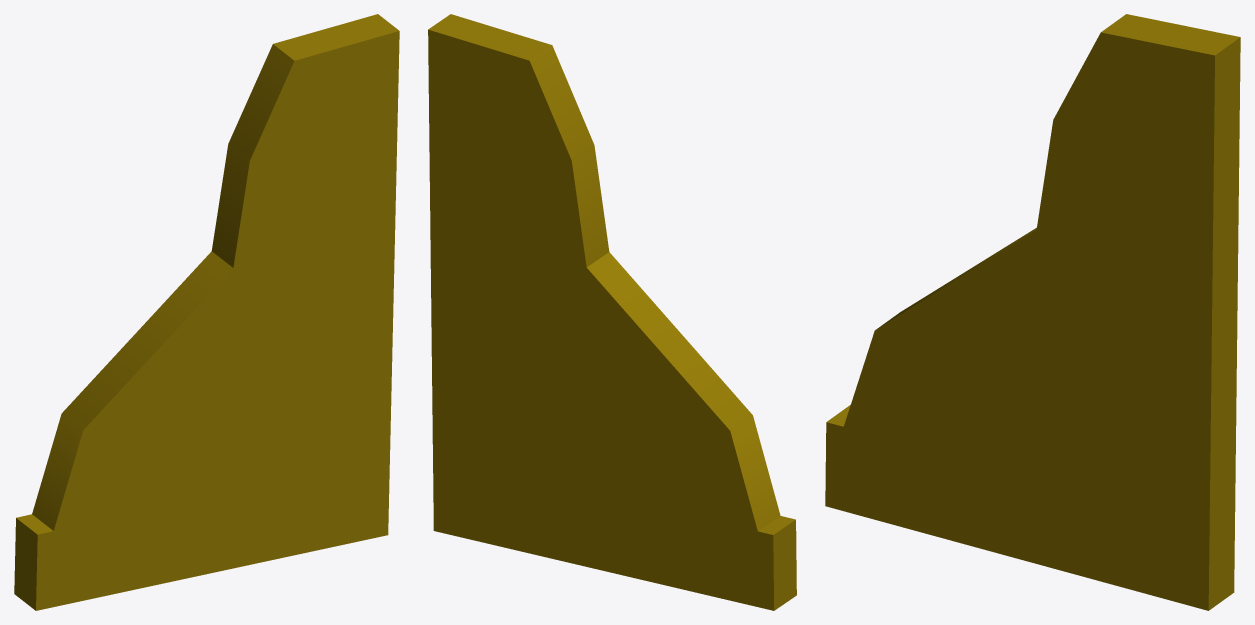
File: SM_Debris_mur2.fbx
3 renders of one model, left to right at view 1: azimuth 30°, elevation 25°; view 2: azimuth 150°, elevation 25°; view 3: azimuth 330°, elevation 25°, orthographic. The views are drawn at different scales.
Visible parts, largest first — view 1: Debris_mur2; view 2: Debris_mur2; view 3: Debris_mur2.
Boxes of the visible parts, <box> form: Debris_mur2: <box>14,14,399,610</box>; Debris_mur2: <box>428,14,796,610</box>; Debris_mur2: <box>825,14,1240,610</box>.
Size of the model in its own units: 116 by 156 by 16.13.
